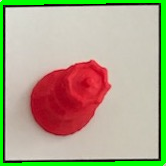Red Queen: (26, 52, 113, 141)
